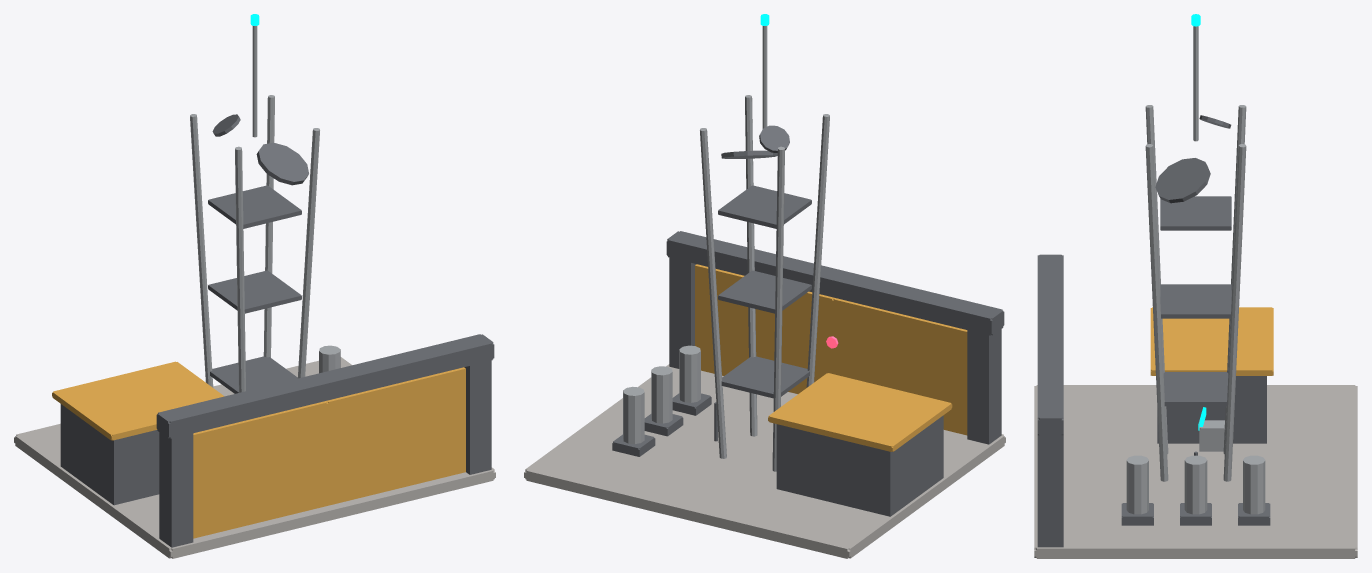
Rendered from repeater_site_v2.glb.
3 views of the same model, side by side, from view 1: azimuth 30°, elevation 25°; view 2: azimuth 150°, elevation 25°; view 3: azimuth 270°, elevation 25° (orthographic). The views are drawn at different scales.
Parts seen in each view (by area): view 1: BlastGate_Door_R, BlastGate_Door_L, BlastGate_Gantry, Rep_Plinth, Tech_Hut_Roof, Tech_Hut_Body, BlastGate_Pillar_L, BlastGate_Pillar_R, Mast_Brace_6.0, Mast_Brace_9.0, Mast_Leg_4, Mast_Leg_2 (+5 smaller); view 2: Rep_Plinth, BlastGate_Door_L, Tech_Hut_Body, BlastGate_Gantry, Tech_Hut_Roof, BlastGate_Door_R, BlastGate_Pillar_L, BlastGate_Pillar_R, Mast_Leg_3, Mast_Leg_4, Mast_Brace_6.0, Mast_Brace_9.0 (+9 smaller); view 3: Rep_Plinth, Tech_Hut_Roof, BlastGate_Gantry, Tech_Hut_Body, BlastGate_Pillar_R, Mast_Leg_2, Mast_Leg_3, Mast_Brace_6.0, Mast_Brace_9.0, Mast_Brace_3.0, Transceiver_Dish_Large, Capacitor_Cell_2 (+9 smaller).
Boxes of the visible parts, bbox=[...] form: BlastGate_Door_R: bbox=[326, 367, 465, 505]; BlastGate_Door_L: bbox=[193, 401, 327, 538]; BlastGate_Gantry: bbox=[156, 334, 494, 438]; Rep_Plinth: bbox=[14, 357, 495, 558]; Tech_Hut_Roof: bbox=[52, 361, 224, 440]; Tech_Hut_Body: bbox=[60, 404, 159, 505]; BlastGate_Pillar_L: bbox=[159, 421, 193, 547]; BlastGate_Pillar_R: bbox=[464, 356, 491, 474]; Mast_Brace_6.0: bbox=[208, 270, 301, 313]; Mast_Brace_9.0: bbox=[208, 185, 301, 228]; Mast_Leg_4: bbox=[190, 114, 213, 387]; Mast_Leg_2: bbox=[297, 128, 319, 378]; Rep_Plinth: bbox=[524, 364, 1005, 558]; BlastGate_Door_L: bbox=[833, 298, 967, 435]; Tech_Hut_Body: bbox=[776, 415, 943, 516]; BlastGate_Gantry: bbox=[666, 231, 1004, 335]; Tech_Hut_Roof: bbox=[768, 373, 952, 451]; BlastGate_Door_R: bbox=[695, 264, 834, 393]; BlastGate_Pillar_L: bbox=[967, 318, 1001, 444]; BlastGate_Pillar_R: bbox=[669, 246, 696, 368]; Mast_Leg_3: bbox=[700, 128, 726, 458]; Mast_Leg_4: bbox=[772, 146, 784, 471]; Mast_Brace_6.0: bbox=[718, 270, 811, 313]; Mast_Brace_9.0: bbox=[718, 185, 811, 228]; Rep_Plinth: bbox=[1034, 385, 1357, 558]; Tech_Hut_Roof: bbox=[1150, 307, 1273, 375]; BlastGate_Gantry: bbox=[1037, 254, 1063, 435]; Tech_Hut_Body: bbox=[1157, 376, 1266, 443]; BlastGate_Pillar_R: bbox=[1037, 435, 1063, 547]; Mast_Leg_2: bbox=[1145, 144, 1168, 481]; Mast_Leg_3: bbox=[1223, 144, 1246, 481]; Mast_Brace_6.0: bbox=[1160, 284, 1231, 318]; Mast_Brace_9.0: bbox=[1160, 196, 1231, 230]; Mast_Brace_3.0: bbox=[1163, 372, 1228, 406]; Transceiver_Dish_Large: bbox=[1155, 158, 1210, 203]; Capacitor_Cell_2: bbox=[1184, 455, 1207, 514].
Bounding box in the file's own units: 12.1 × 16.67 × 10.
